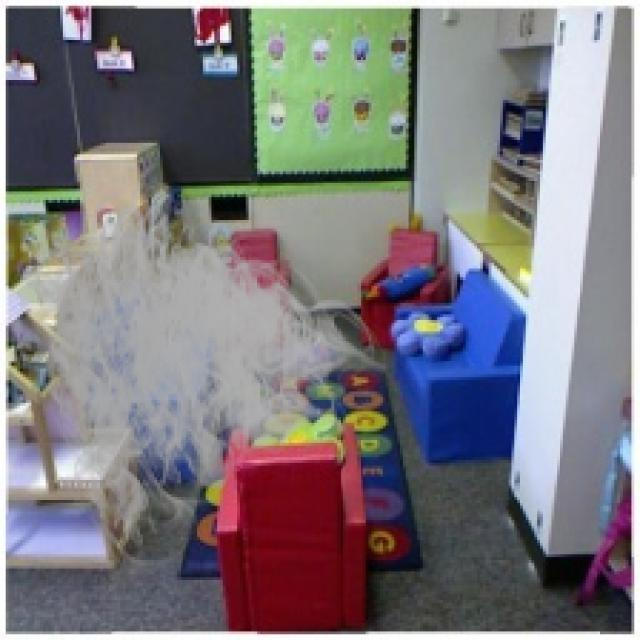Smoke: (8, 166, 386, 583)
